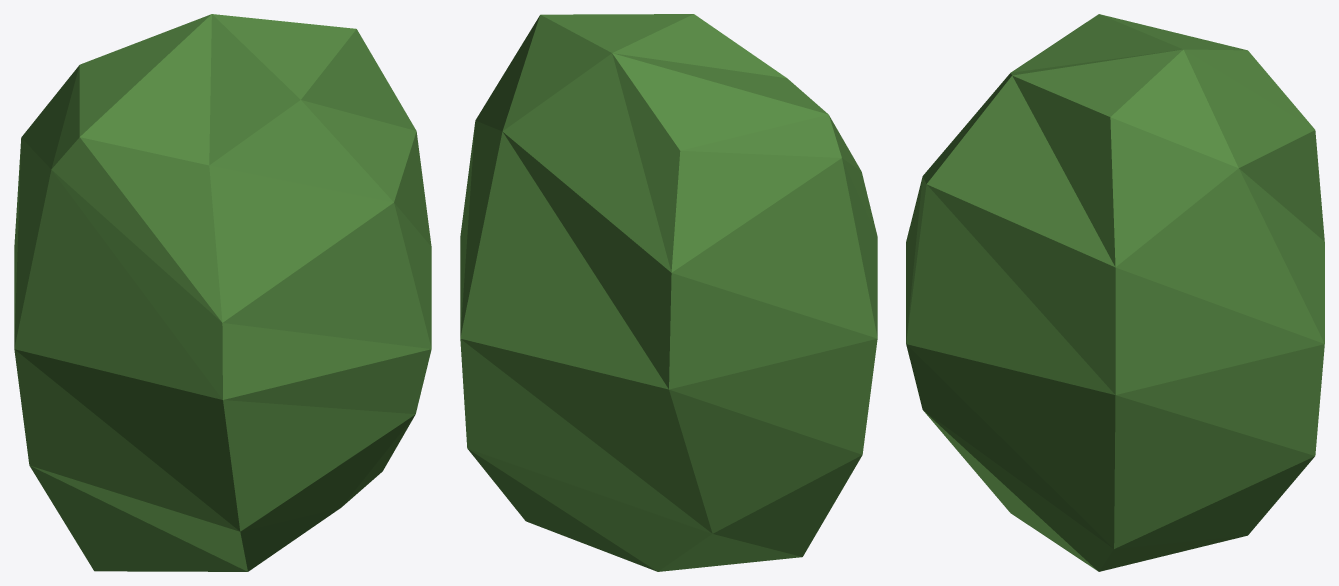
File: Bush_1_Light.fbx
The picture shows the model from 3 angles, left to right: view 1: azimuth 30°, elevation 25°; view 2: azimuth 150°, elevation 25°; view 3: azimuth 270°, elevation 25°; orthographic projection.
Parts seen in each view (by area): view 1: Bush_1_Light; view 2: Bush_1_Light; view 3: Bush_1_Light.
Part boxes in pixels (x1,y1,x2,y2): Bush_1_Light: [14, 14, 431, 571]; Bush_1_Light: [460, 14, 877, 571]; Bush_1_Light: [906, 14, 1324, 571].
Size of the model in its own units: 2 by 2.32 by 1.73.
